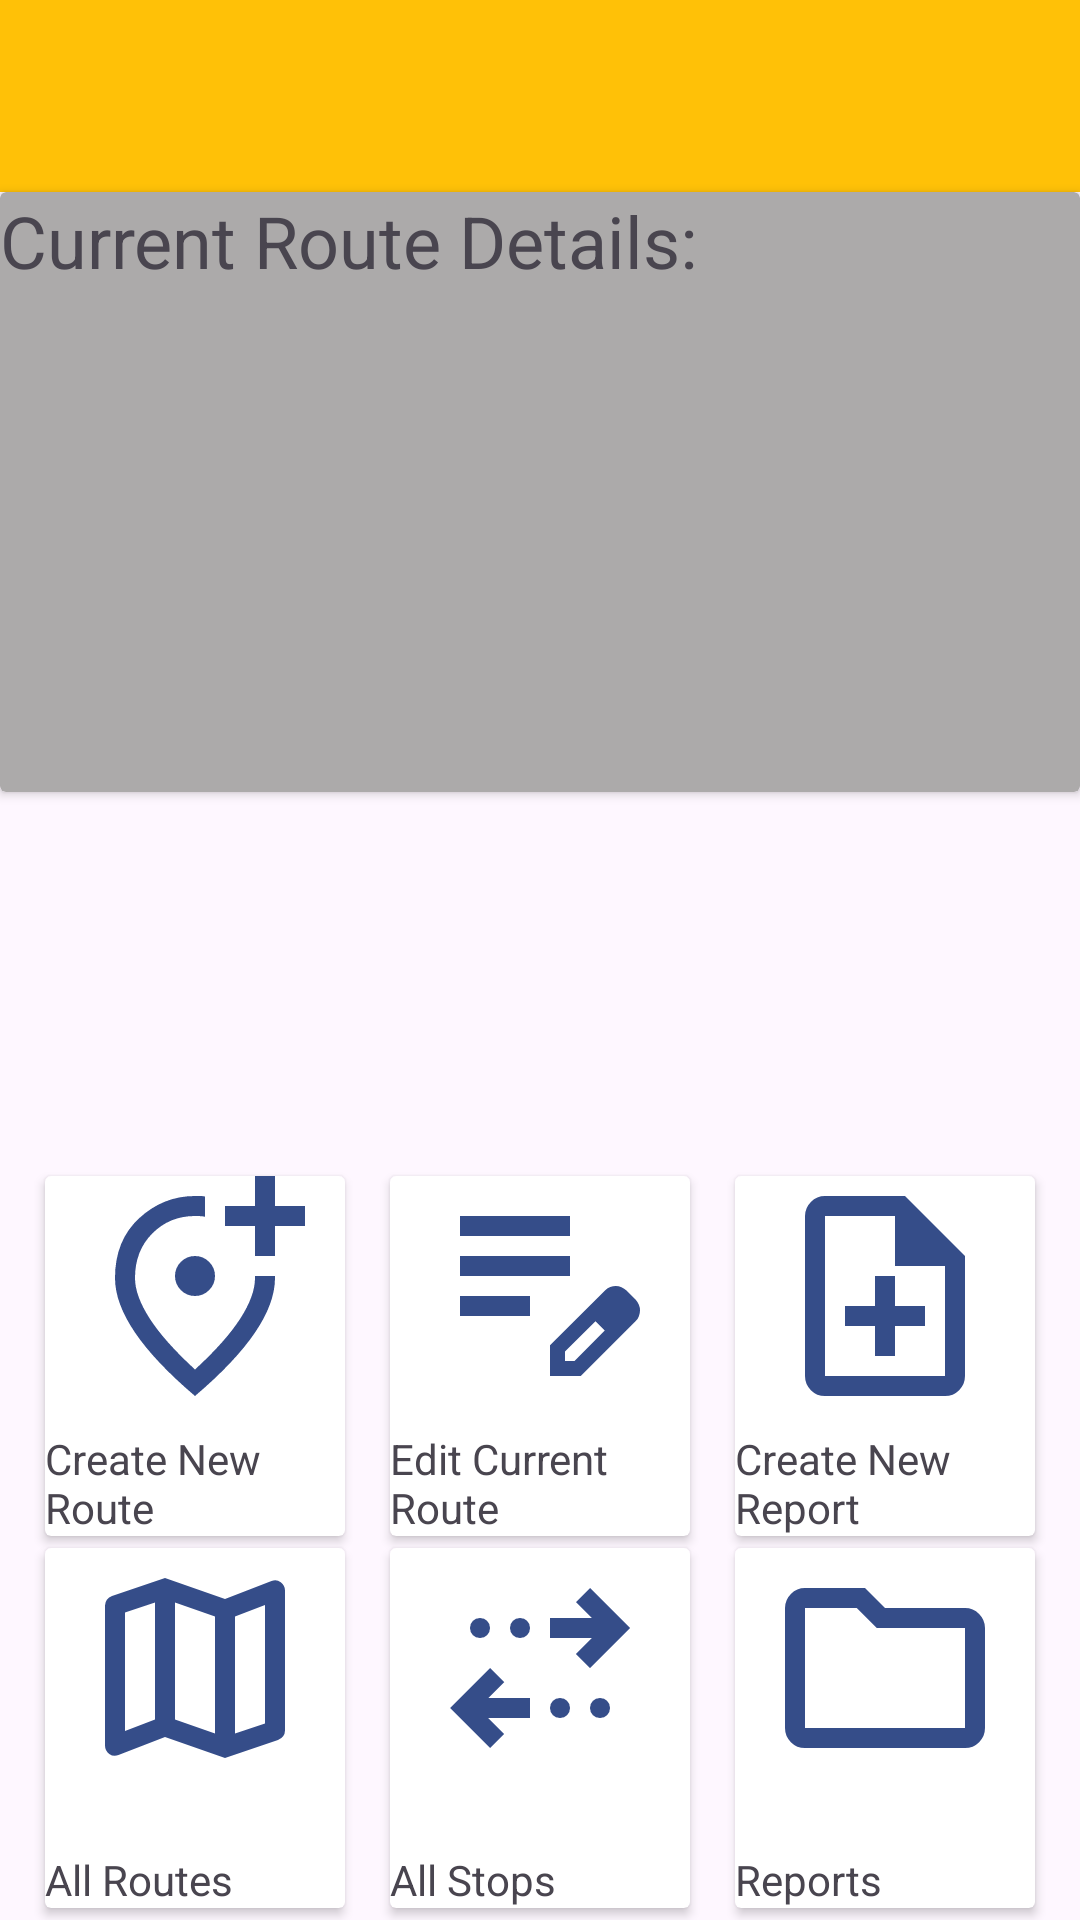

Point at icon controls on the screen. Image size 1080*1920, points as [x,y].
add route: [210,1286]
map: [195,1668]
multiple stop: [540,1668]
note add: [885,1296]
